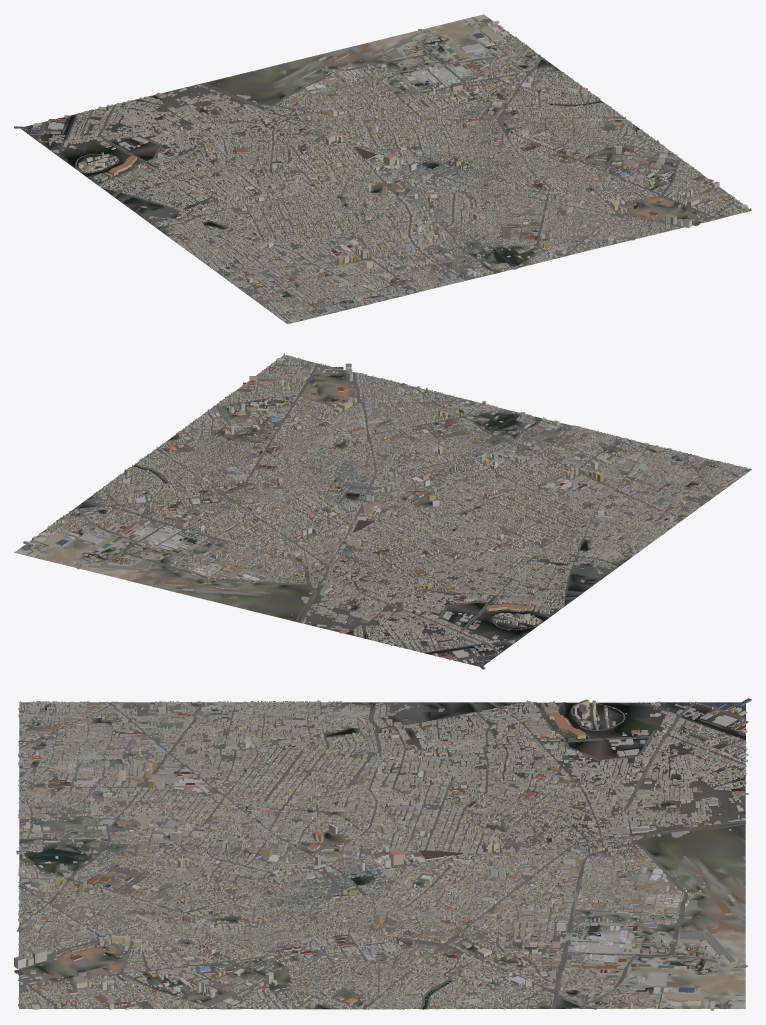
3 views of the same model, one above another, from view 1: azimuth 30°, elevation 25°; view 2: azimuth 150°, elevation 25°; view 3: azimuth 270°, elevation 25° (orthographic). The views are drawn at different scales.
Parts seen in each view (by area): view 1: buildings, ground, roads; view 2: buildings, ground, roads; view 3: buildings, ground, roads, water.
Boxes of the visible parts, <box> form: buildings: <box>14,18,751,323</box>; ground: <box>21,14,751,324</box>; roads: <box>27,17,745,323</box>; buildings: <box>23,353,751,669</box>; ground: <box>14,355,750,666</box>; roads: <box>21,357,748,664</box>; buildings: <box>14,698,751,1010</box>; ground: <box>19,702,745,1009</box>; roads: <box>18,702,746,1009</box>; water: <box>28,702,614,1009</box>.
Bounding box in the file's own units: 5687 × 90.65 × 5690.
